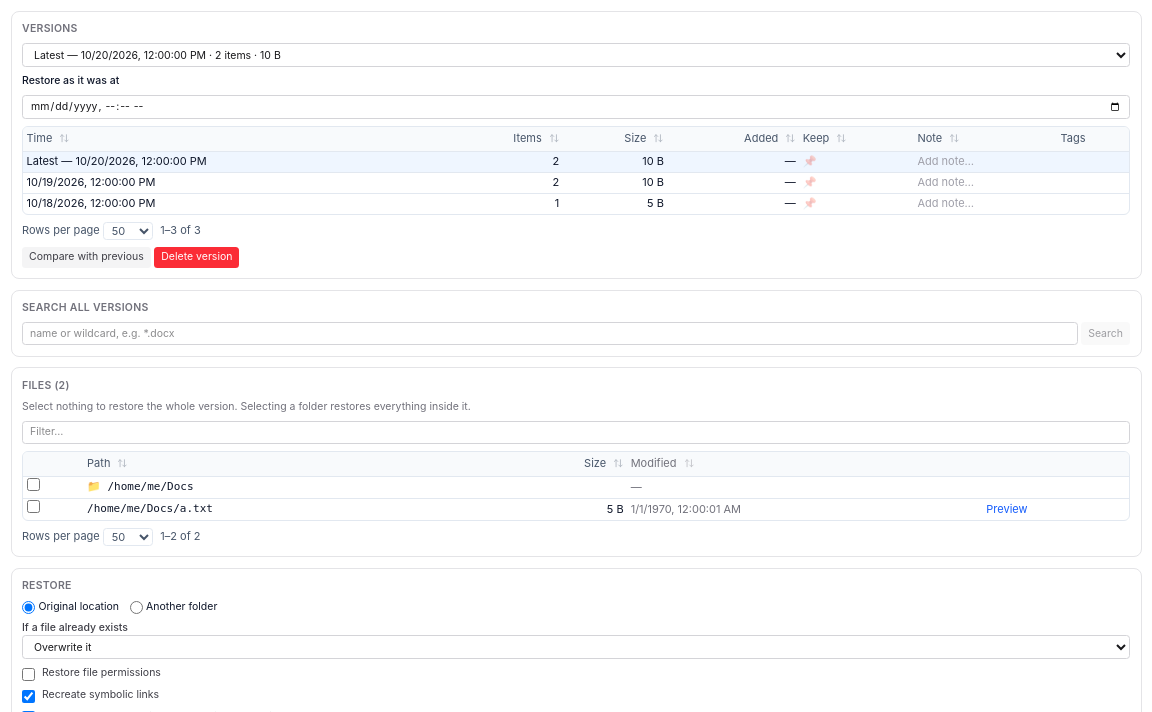
restore view › previews a backed-up file in the preview pane
Expected: the element with test id "backup-file-list" shows "a.txt", [87, 502, 213, 515]
What coordinates should you click on to do the following:
click the button with test id "backup-file-preview-open"
I would click on:
 (1007, 509)
Its box is [986, 501, 1028, 517].
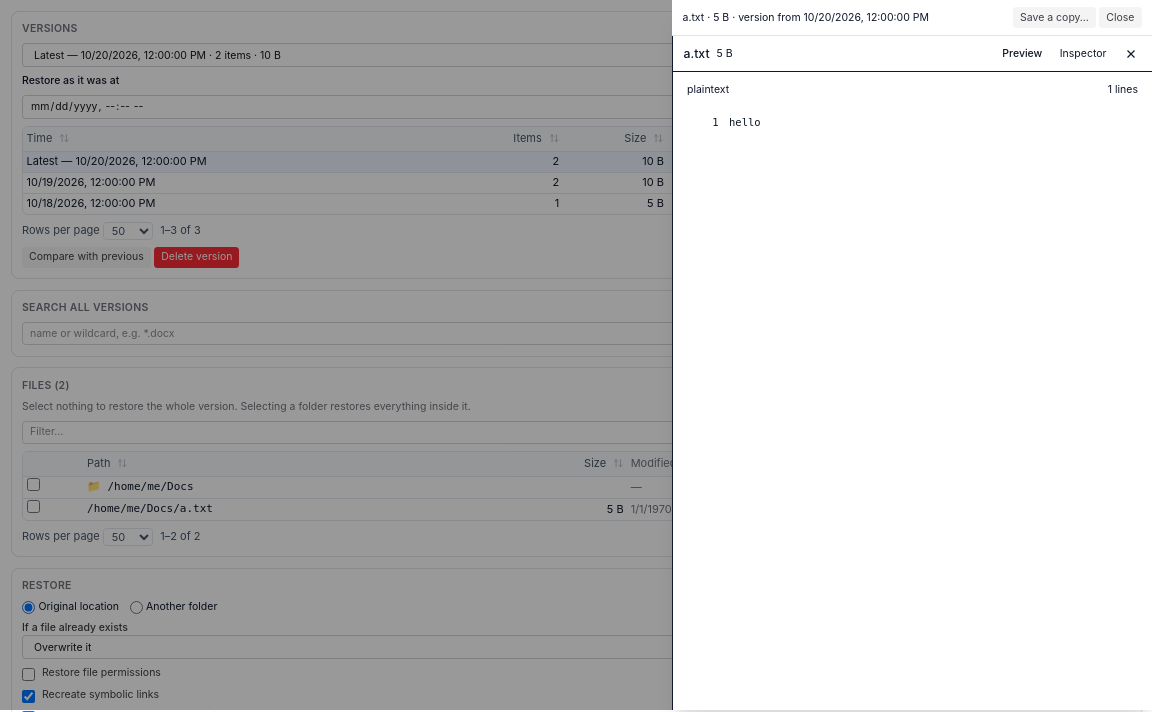
Expected: the dialog with test id "backup-file-preview" is shown
What coordinates should you click on to do the following:
click the button with test id "backup-file-preview-close"
I would click on:
 (1120, 18)
Its box is [1099, 7, 1142, 28].
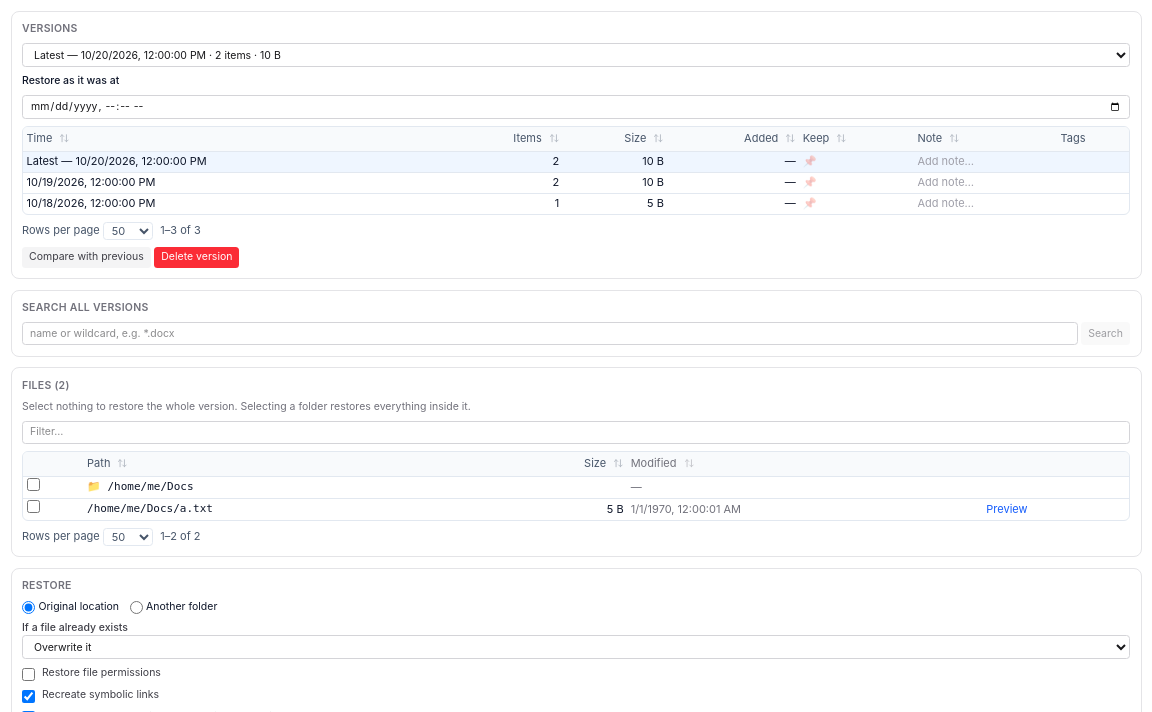
Expected: the dialog with test id "backup-file-preview" is gone
